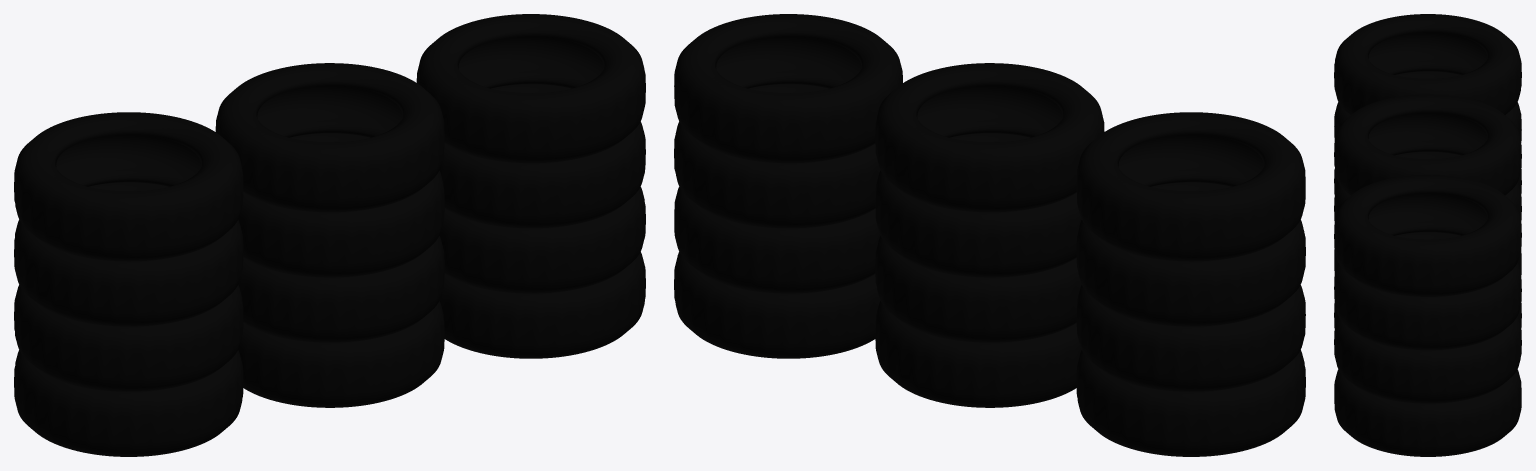
The model's file is obj_tire_wall.glb.
3 views of the same model, side by side, from view 1: azimuth 30°, elevation 25°; view 2: azimuth 150°, elevation 25°; view 3: azimuth 270°, elevation 25° (orthographic). The views are drawn at different scales.
Visible parts, largest first — view 1: tire_wall_body; view 2: tire_wall_body; view 3: tire_wall_body.
Part boxes in pixels (<box>): tire_wall_body: <box>14,14,645,456</box>; tire_wall_body: <box>674,14,1305,456</box>; tire_wall_body: <box>1334,14,1521,456</box>.
Size of the model in its own units: 1.91 by 0.786 by 0.632.
Materials: 1 (1 with a texture image).
